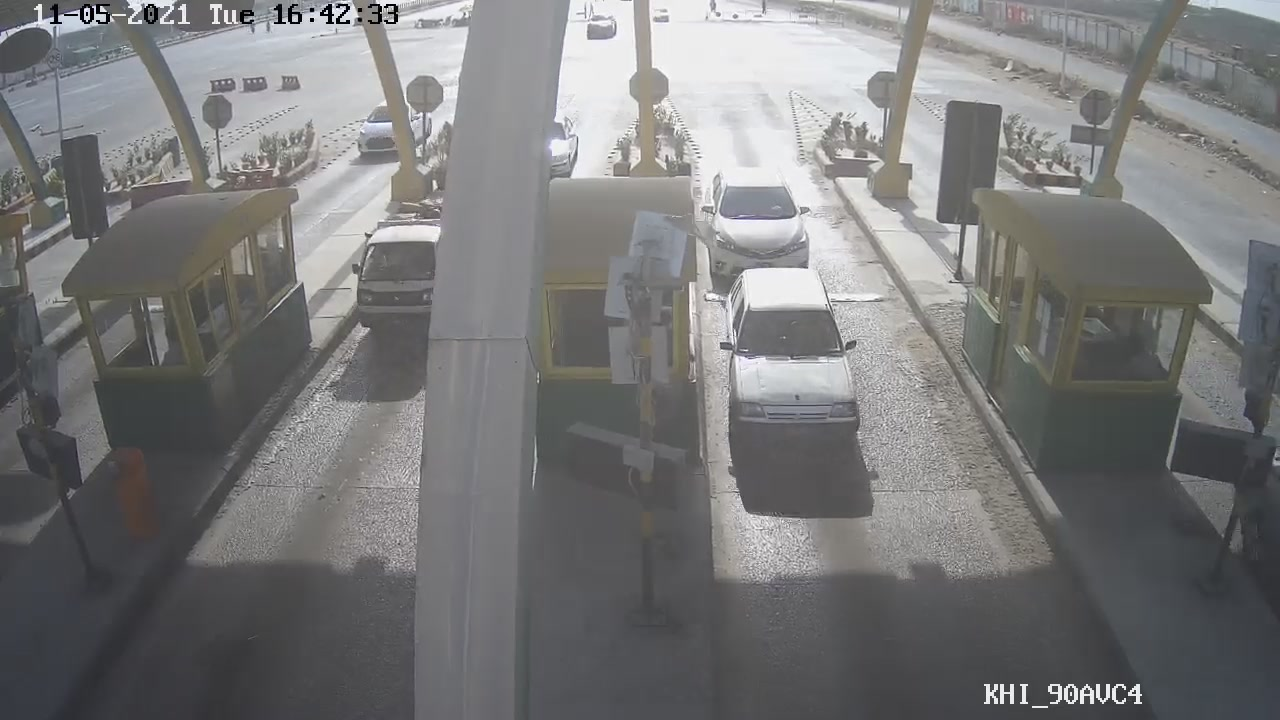F1: (718, 264, 870, 446)
